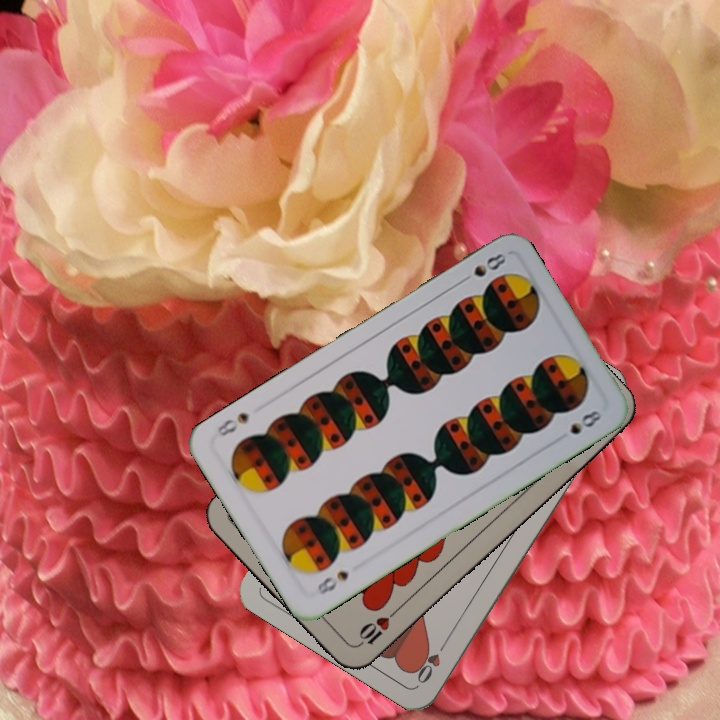H10: (354, 604, 401, 649)
HO: (411, 634, 451, 687)
S8: (313, 566, 352, 598), (469, 249, 509, 280)
